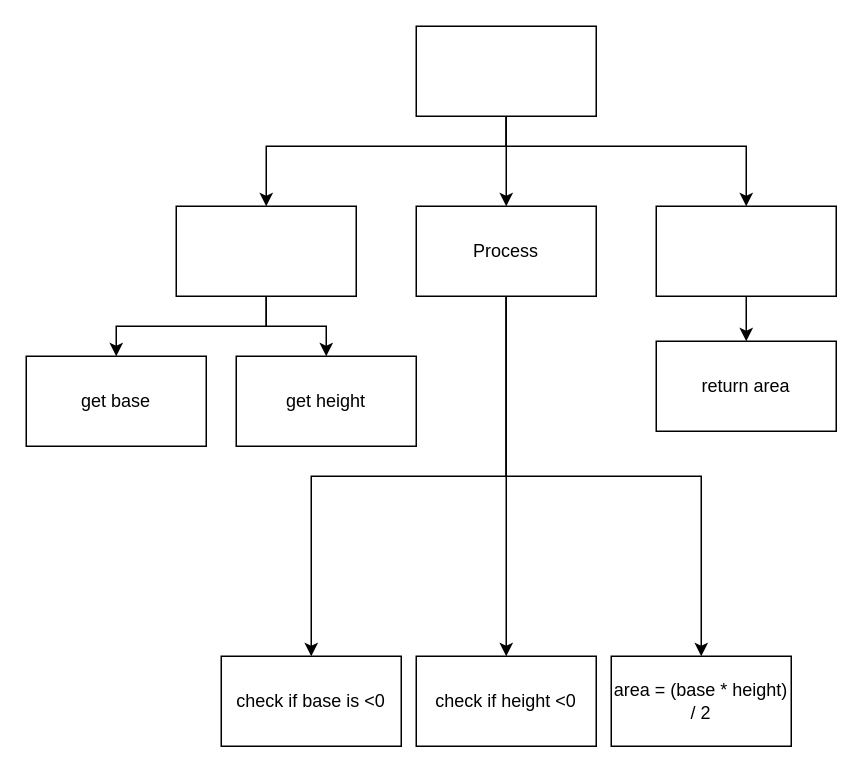
The diagram is 863 pixels wide and 773 high, and some of its shapes have lost their labels. The box of each missing label's shape, as (x1, y1, x2, y2) in pixels:
Input: (175, 205, 356, 296)
Output: (655, 205, 836, 296)
triangle area: (415, 25, 596, 116)
